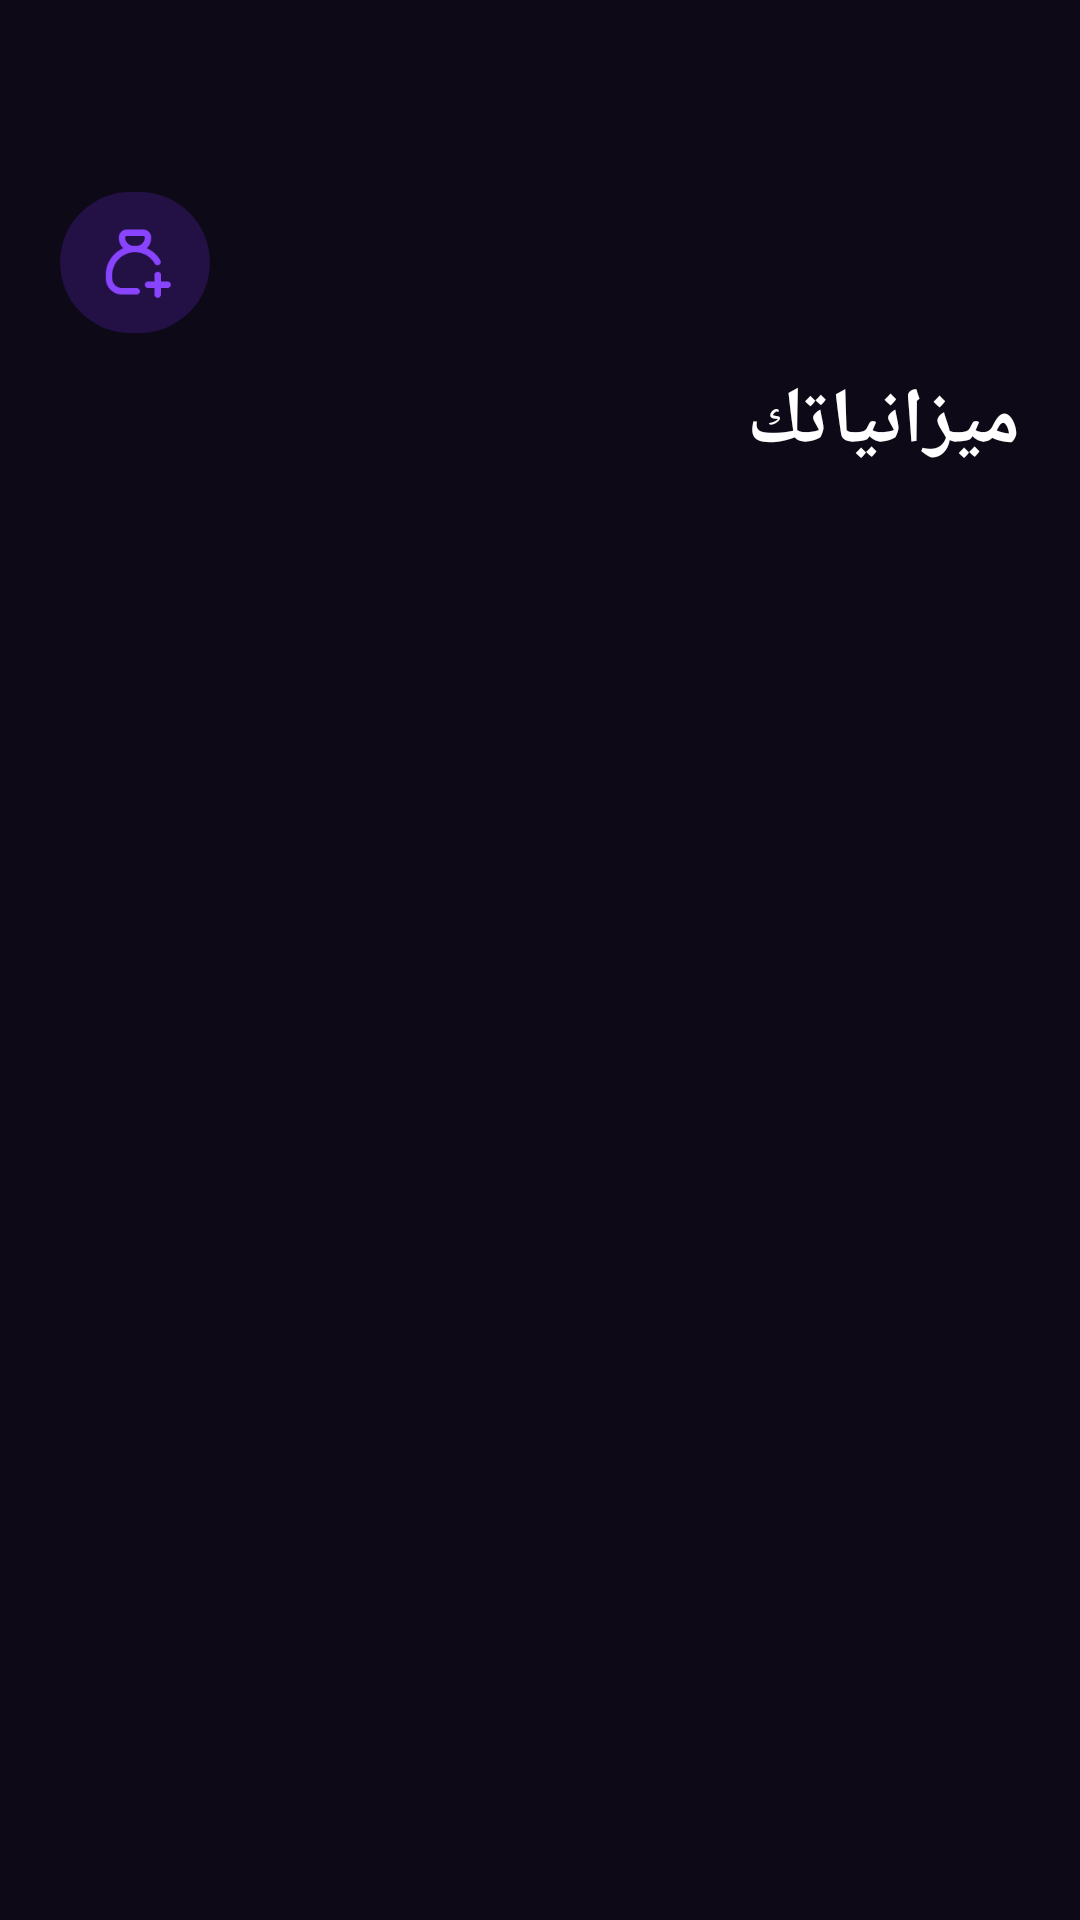

Icons on this 1080 × 1920 Android screen, each with its box as (x1, y1, x2, y2):
moneybag plus: (60, 192, 210, 333)
